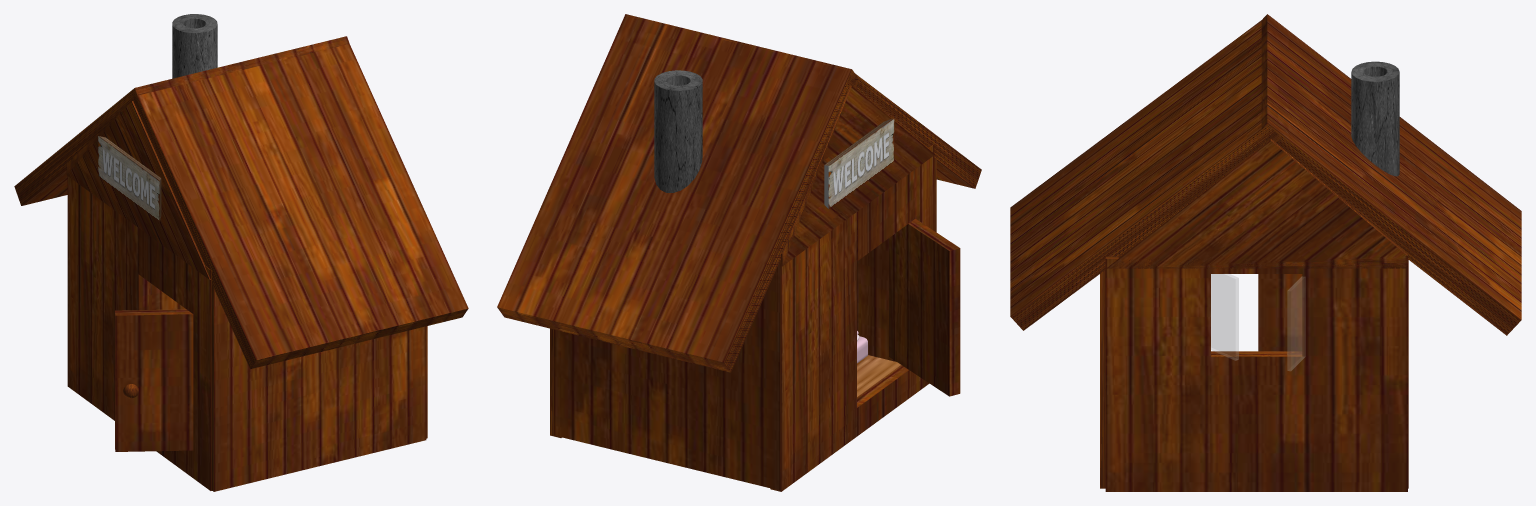
Rendered from house.fbx.
3 renders of one model, left to right at view 1: azimuth 30°, elevation 25°; view 2: azimuth 150°, elevation 25°; view 3: azimuth 270°, elevation 25°, orthographic. The views are drawn at different scales.
Visible parts, largest first — view 1: pCube71, polySurface37, polySurface36, pCube70, pCube88, pPipe1, polySurface35; view 2: pCube71, polySurface35, polySurface36, pCube70, pPipe1, polySurface37, pCube88, polySurface33; view 3: pCube71, polySurface34, pPipe1, polySurface36, pCube86, pCube87, polySurface37.
Boxes of the visible parts, box(x1,y1,x2,y2) form: pCube71: box(14, 36, 468, 368); polySurface37: box(209, 268, 426, 491); polySurface36: box(67, 176, 211, 490); pCube70: box(115, 309, 193, 451); pCube88: box(98, 136, 161, 221); pPipe1: box(172, 14, 217, 78); polySurface35: box(149, 282, 185, 309); pCube71: box(497, 14, 981, 372); polySurface35: box(554, 259, 780, 490); polySurface36: box(770, 144, 934, 491); pCube70: box(889, 219, 960, 396); pPipe1: box(654, 70, 702, 192); polySurface37: box(857, 158, 936, 361); pCube88: box(824, 118, 894, 208); polySurface33: box(857, 355, 900, 396); pCube71: box(1010, 14, 1521, 335); polySurface34: box(1105, 256, 1407, 491); pPipe1: box(1351, 61, 1399, 176); polySurface36: box(1258, 274, 1302, 351); pCube86: box(1211, 274, 1238, 360); pCube87: box(1287, 277, 1305, 370); polySurface37: box(1100, 254, 1109, 488).
Size of the model in its own units: 3.14 by 3.41 by 4.3.
